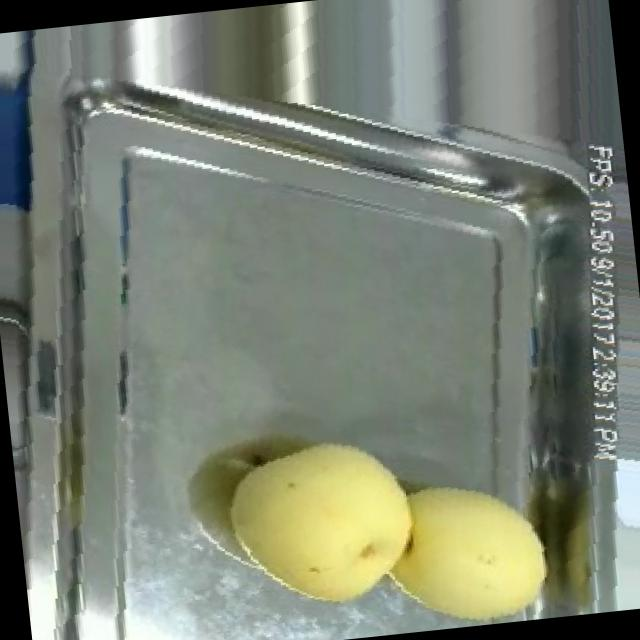Fruit: (212, 414, 435, 626), (366, 454, 568, 636)
